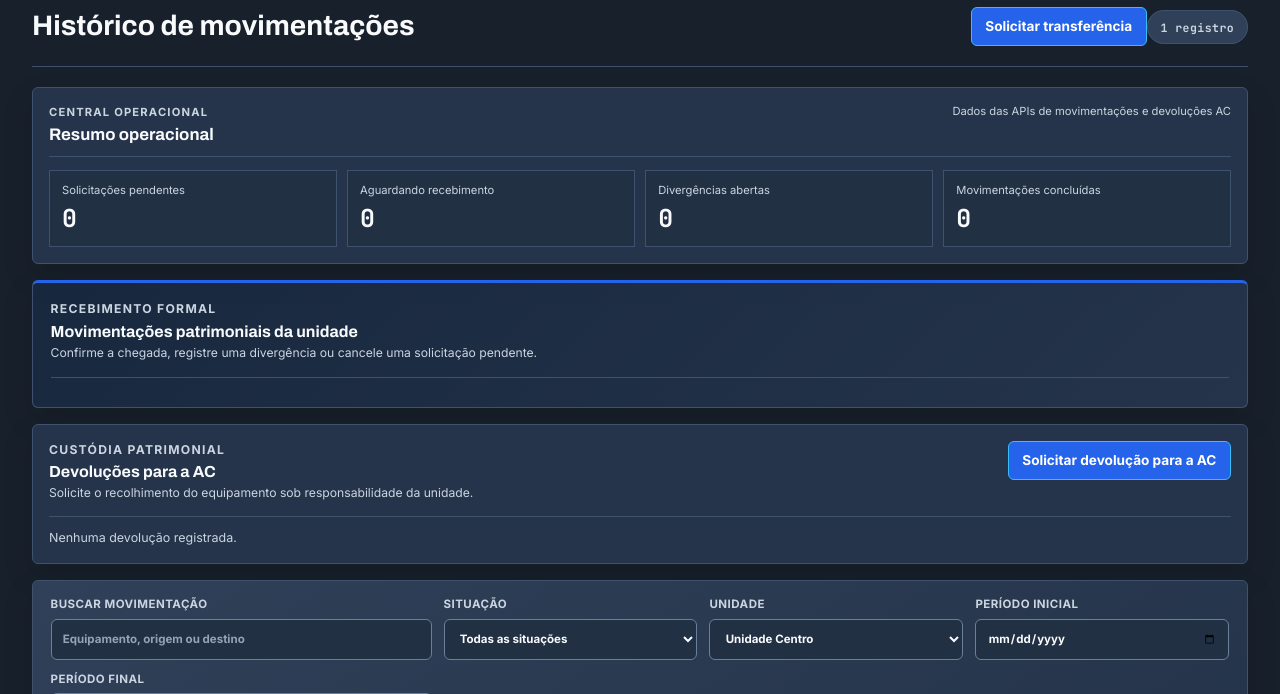
Test: unit user can review and submit a transfer without client authority fields
Step 1. Click the button "Solicitar transferência" → (1059, 26), box x1=971 y1=7 x2=1147 y2=46
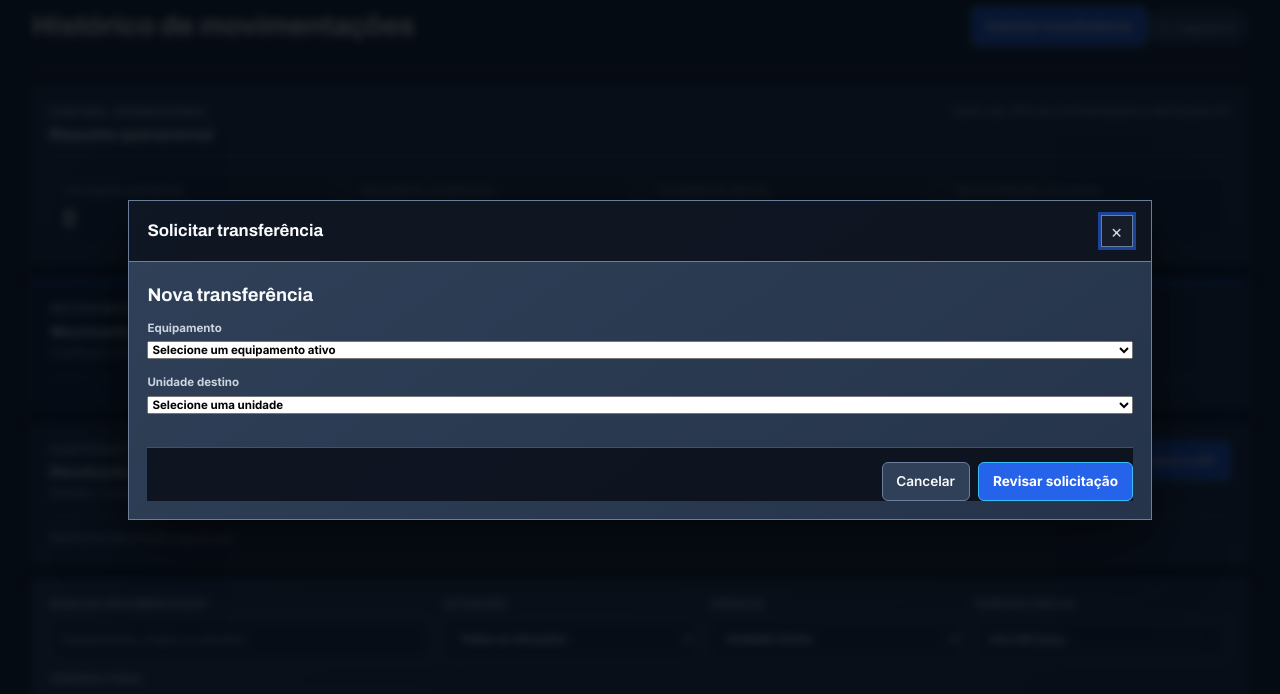
Step 2. Select "PAT-001 · Rádio · APX-2000" in the dropdown labelled "Equipamento" → (640, 350), box x1=147 y1=341 x2=1133 y2=359
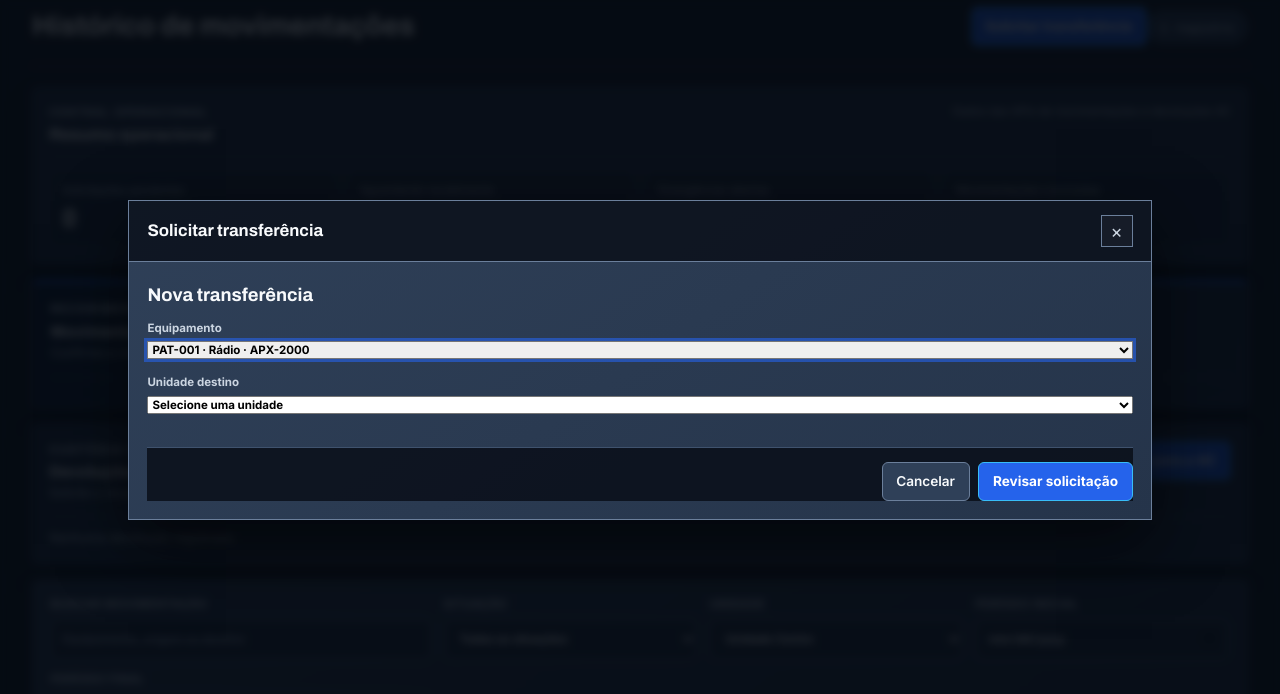
Step 3. Select "Unidade Norte (UN)" in the dropdown labelled "Unidade destino" → (640, 405), box x1=147 y1=396 x2=1133 y2=414
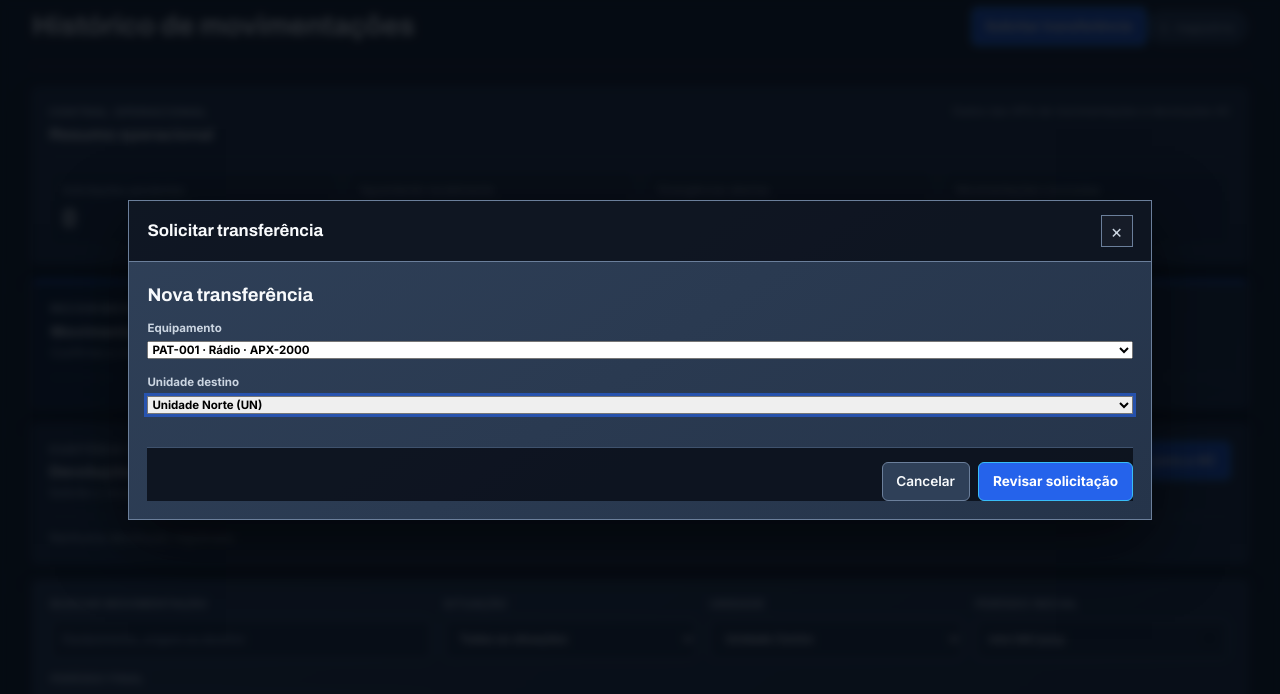
Step 4. Click the button "Revisar solicitação" → (1056, 481), box x1=978 y1=462 x2=1133 y2=501
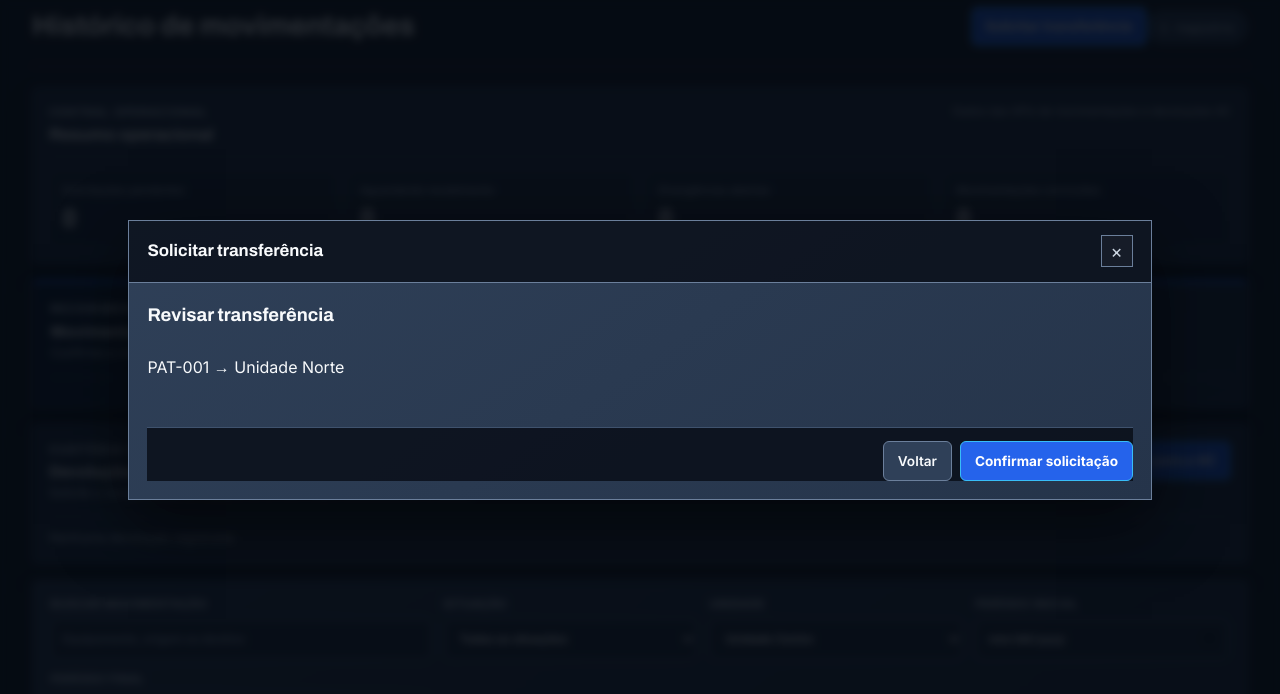
expect the heading "Revisar transferência" is shown: met, box x1=147 y1=305 x2=334 y2=325
Step 5. Click the button "Confirmar solicitação" → (1046, 461), box x1=960 y1=441 x2=1133 y2=481
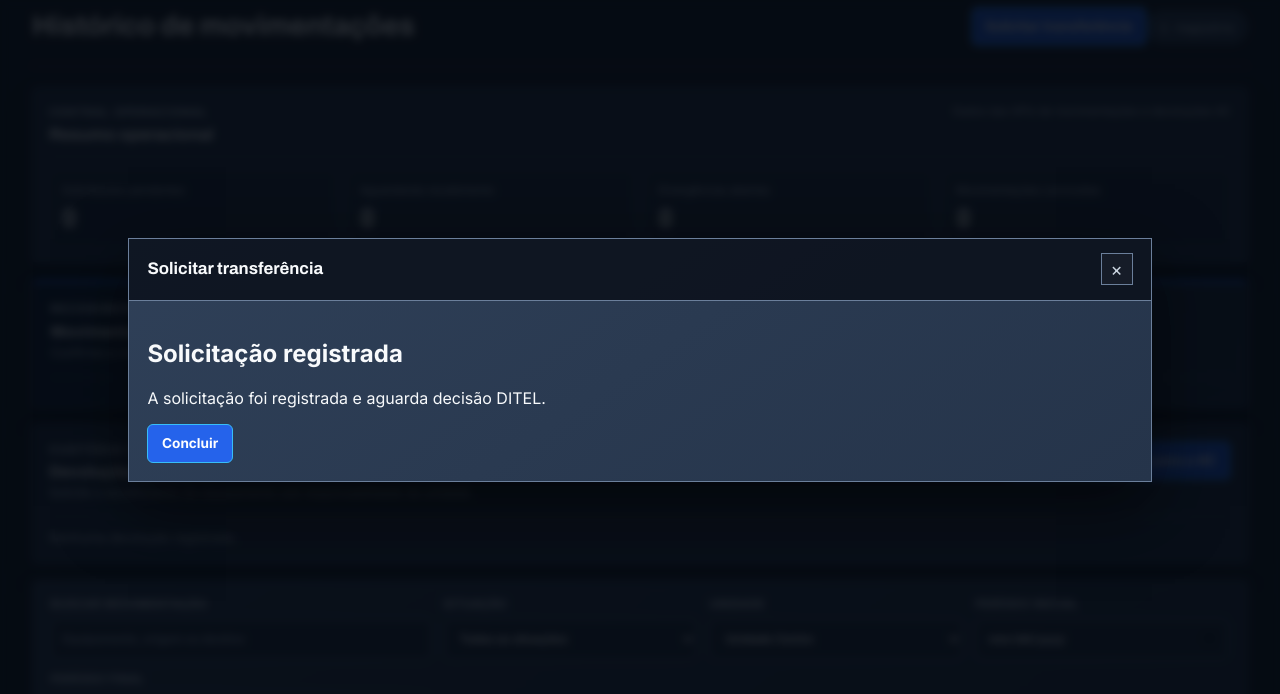
expect the text "A solicitação foi registrada e aguarda decisão DITEL." is shown: met, box x1=147 y1=388 x2=546 y2=408
